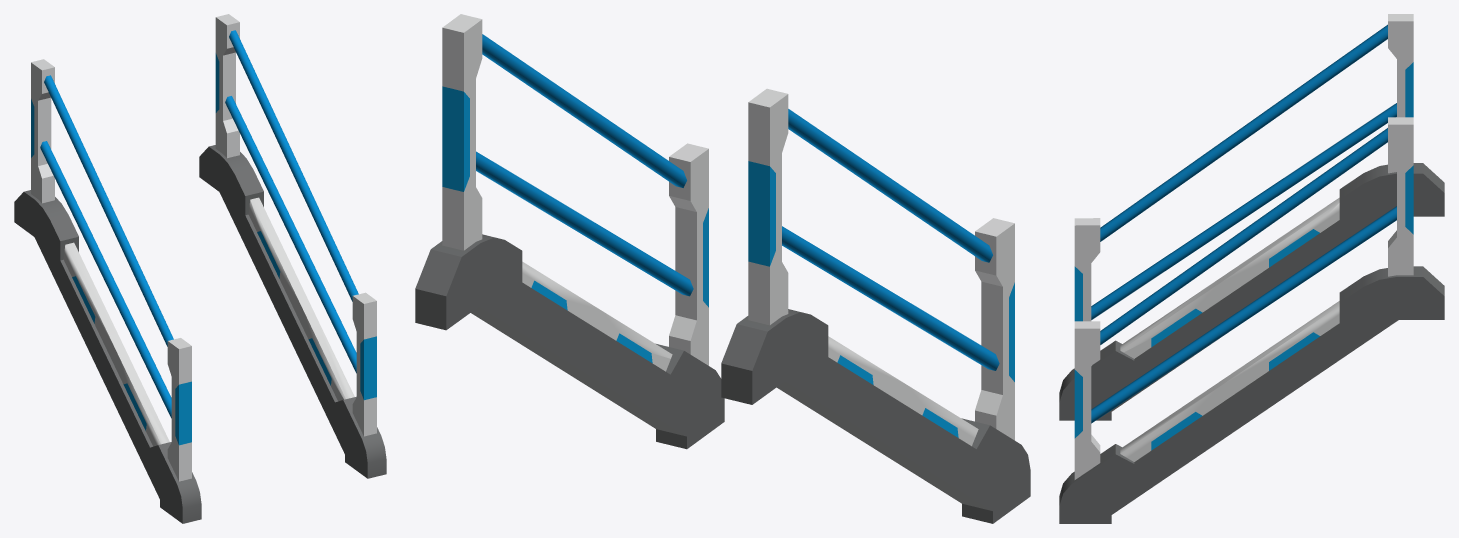
Rendered from Stair_type_A_fence_002.fbx.
3 renders of one model, left to right at view 1: azimuth 30°, elevation 25°; view 2: azimuth 150°, elevation 25°; view 3: azimuth 270°, elevation 25°, orthographic. The views are drawn at different scales.
Visible parts, largest first — view 1: Stair_type_A_fence_002; view 2: Stair_type_A_fence_002; view 3: Stair_type_A_fence_002.
Boxes of the visible parts, x1,y1,x2,y2 form: Stair_type_A_fence_002: (14,14,386,523); Stair_type_A_fence_002: (415,14,1030,523); Stair_type_A_fence_002: (1059,14,1444,523).
Size of the model in its own units: 179 by 257 by 292.
